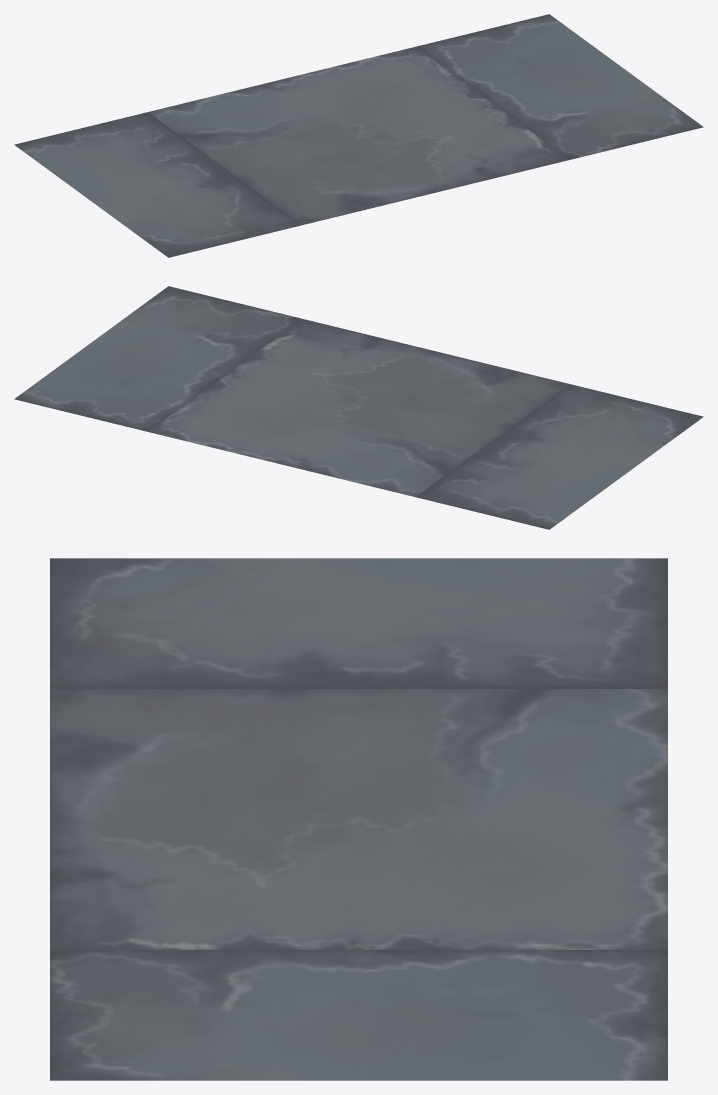
Rendered from Castle Ground X Bright 1x2.fbx.
3 views of the same model, one above another, from view 1: azimuth 30°, elevation 25°; view 2: azimuth 150°, elevation 25°; view 3: azimuth 270°, elevation 25° (orthographic). The views are drawn at different scales.
Visible parts, largest first — view 1: Castle Ground X Bright 1x2; view 2: Castle Ground X Bright 1x2; view 3: Castle Ground X Bright 1x2.
Part boxes in pixels (bbox=[...]): Castle Ground X Bright 1x2: bbox=[14, 14, 703, 257]; Castle Ground X Bright 1x2: bbox=[14, 286, 703, 529]; Castle Ground X Bright 1x2: bbox=[50, 558, 667, 1080].
Size of the model in its own units: 1.5 by 1.79e-07 by 0.75.
